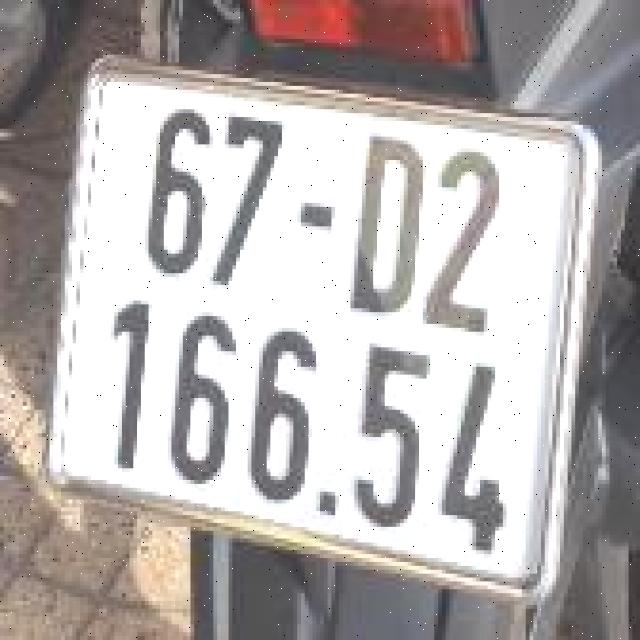1: (99, 291, 160, 478)
2: (417, 142, 509, 338)
4: (432, 353, 524, 552)
5: (345, 330, 440, 529)
6: (166, 304, 246, 496), (240, 314, 320, 506), (145, 103, 213, 279)
7: (215, 105, 295, 293)
D: (351, 121, 426, 332)
